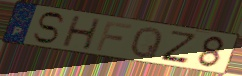8: (195, 35, 227, 69)
F: (94, 20, 134, 52)
H: (61, 15, 103, 51)
Q: (129, 26, 164, 59)
S: (31, 11, 67, 45)
Z: (158, 29, 199, 65)
